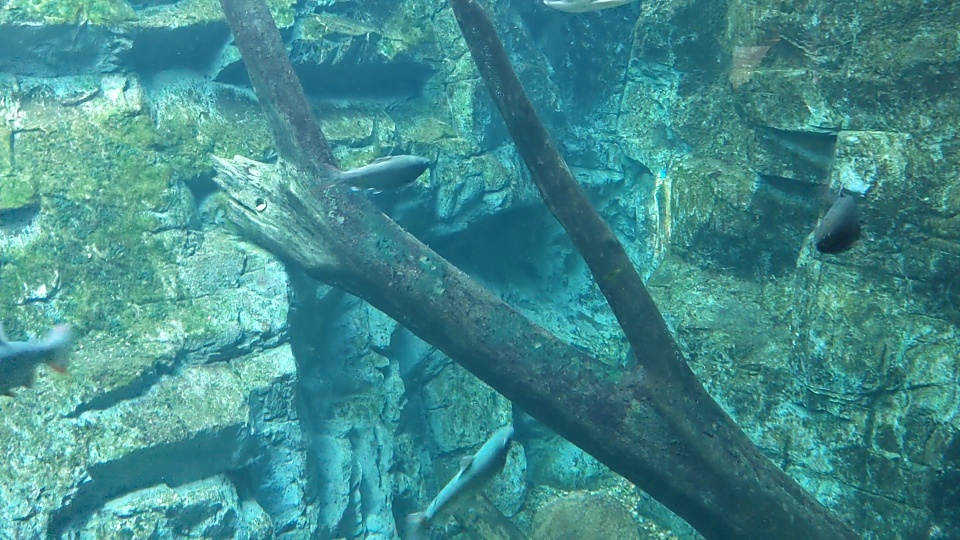Fish: (397, 419, 515, 528), (304, 147, 433, 197), (0, 313, 78, 394), (792, 173, 862, 256)
